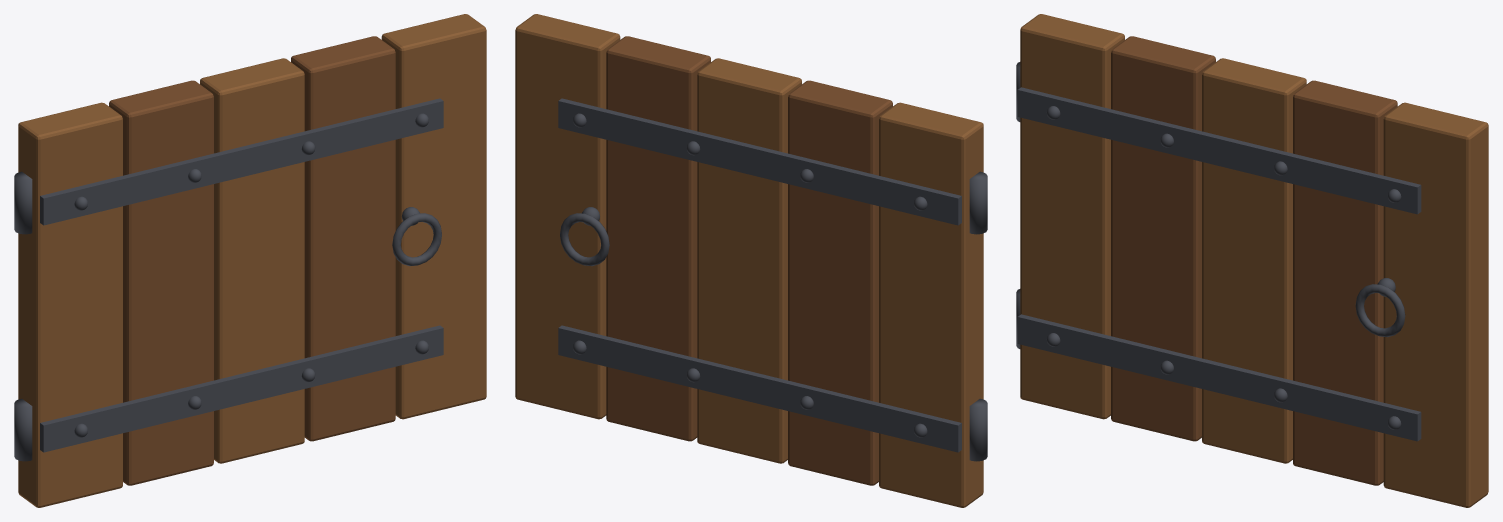
Rendered from door.glb.
The picture shows the model from 3 angles, left to right: view 1: azimuth 30°, elevation 25°; view 2: azimuth 150°, elevation 25°; view 3: azimuth 330°, elevation 25°; orthographic projection.
Parts seen in each view (by area): view 1: door; view 2: door; view 3: door.
Part boxes in pixels (x1,y1,x2,y2): door: (14, 14, 486, 507); door: (515, 14, 987, 507); door: (1016, 14, 1488, 507).
Size of the model in its own units: 0.894 by 0.69 by 0.1439.
